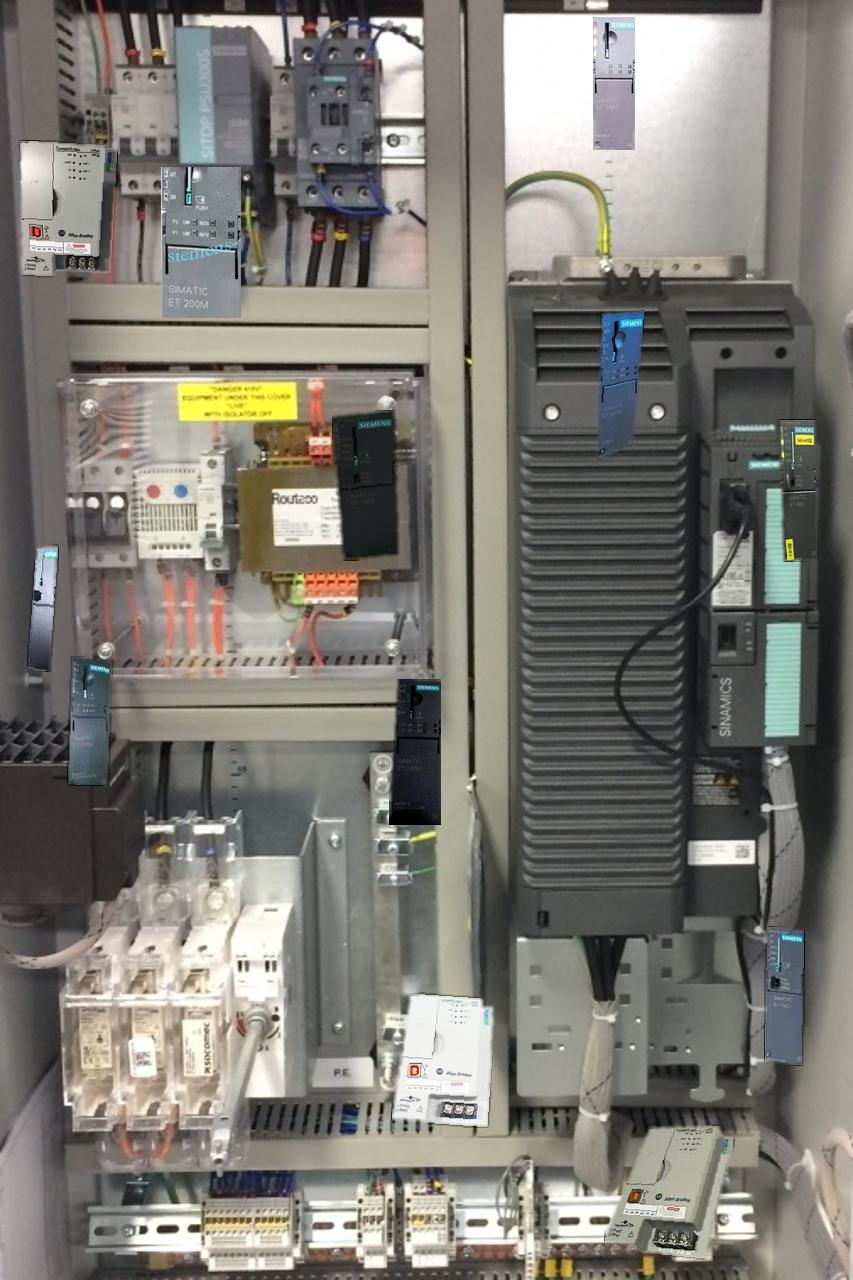AllenBradley: (605, 1126, 733, 1257), (392, 994, 492, 1126), (20, 141, 116, 275)
Siemens: (332, 411, 398, 559), (765, 927, 803, 1064), (779, 420, 816, 560), (28, 546, 57, 671)
